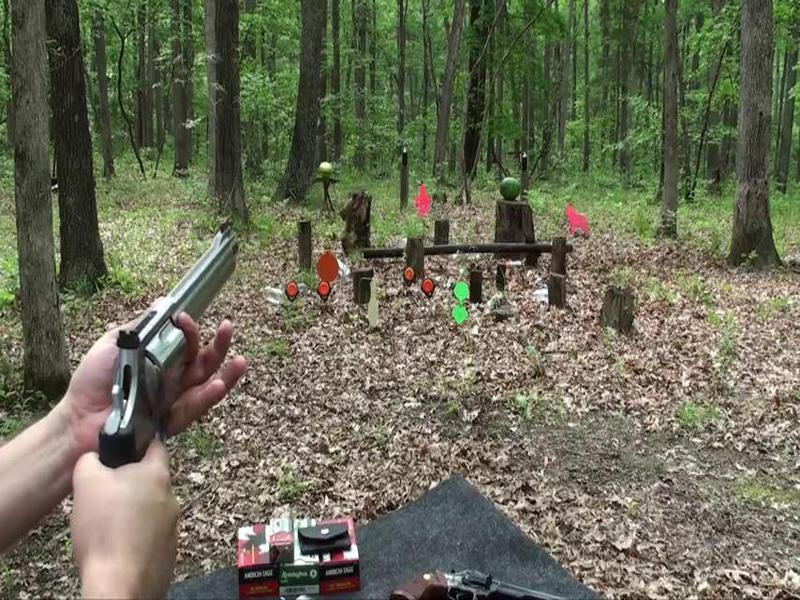Revolver: (92, 231, 256, 464)
